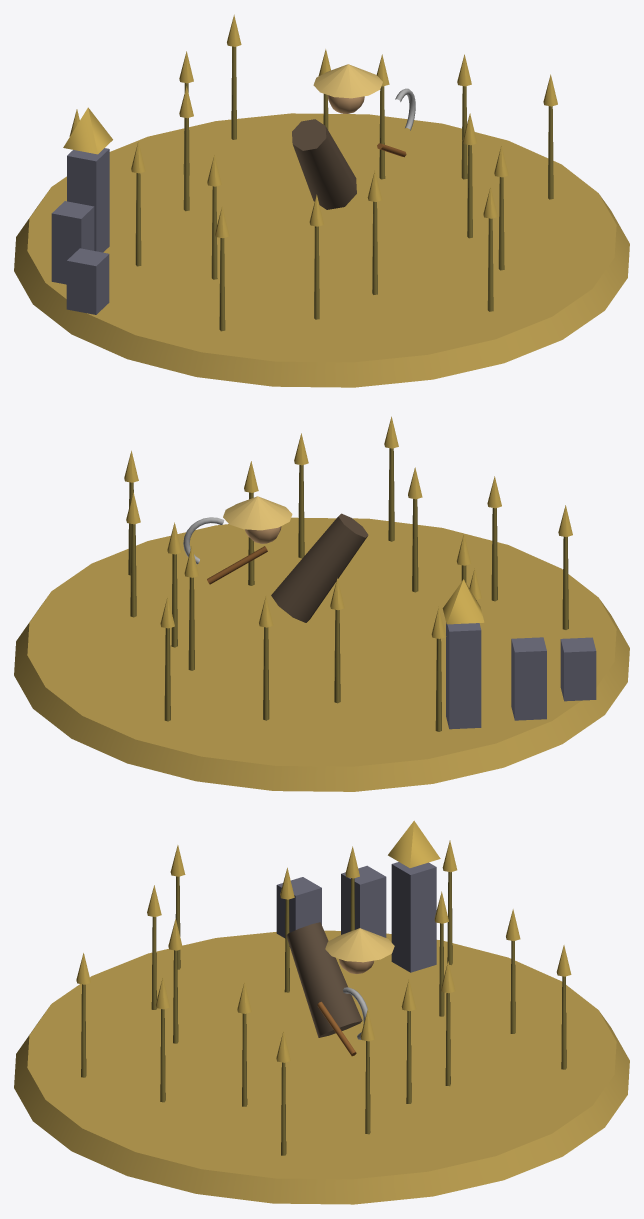
Rendered from wheat_farmer.glb.
3 renders of one model, top to bottom at view 1: azimuth 30°, elevation 25°; view 2: azimuth 150°, elevation 25°; view 3: azimuth 270°, elevation 25°, orthographic.
Bounding box in the file's own units: 2.29 × 0.69 × 2.29.
